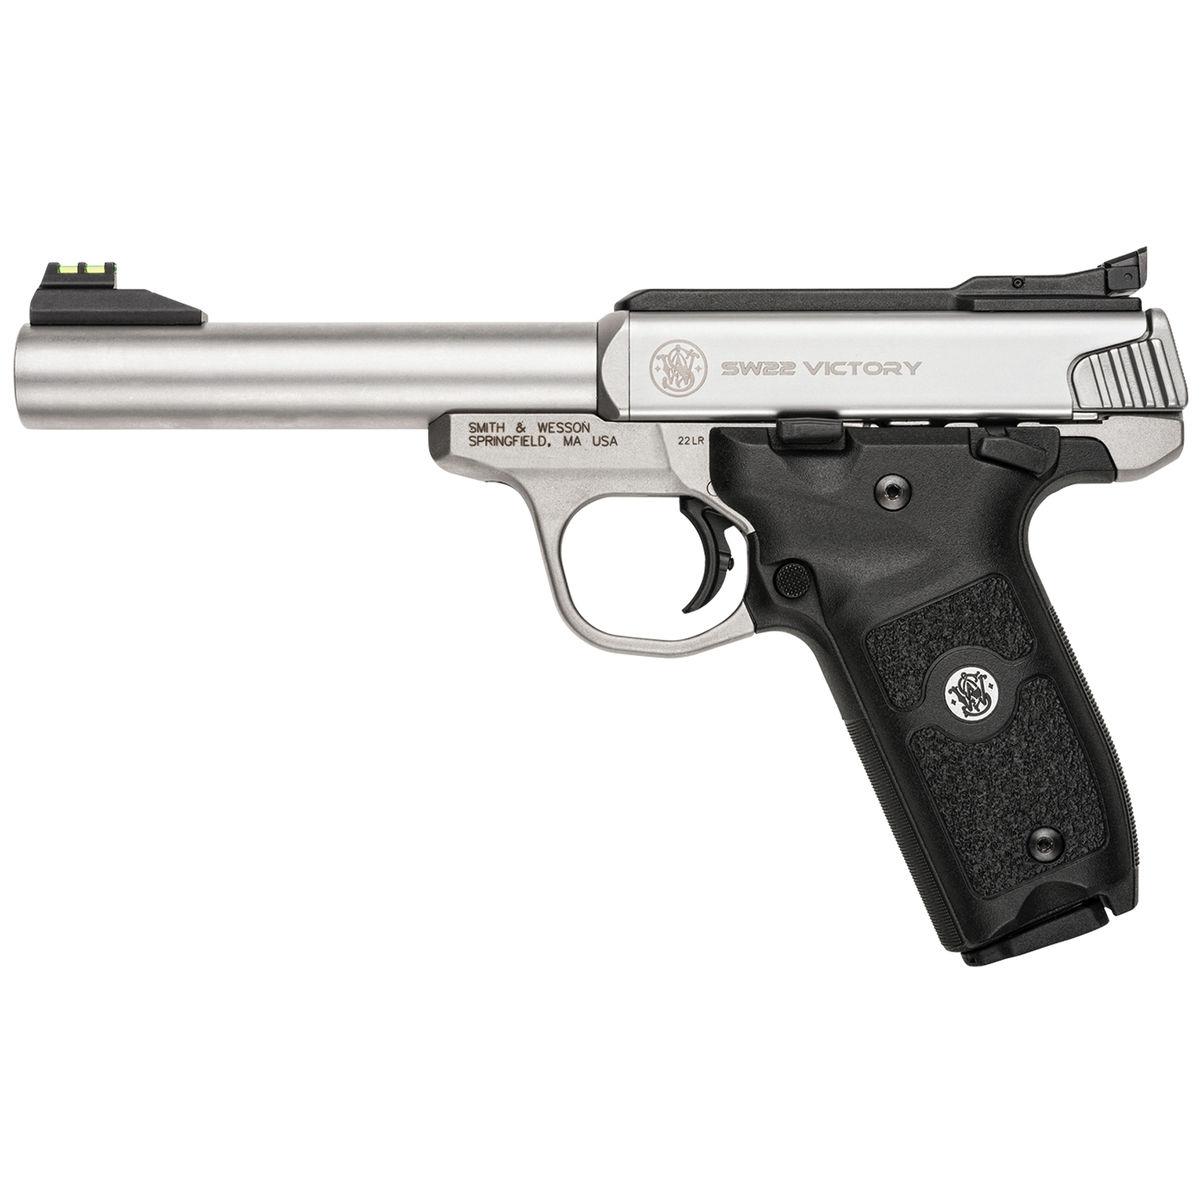gun: (16, 235, 1184, 970)
